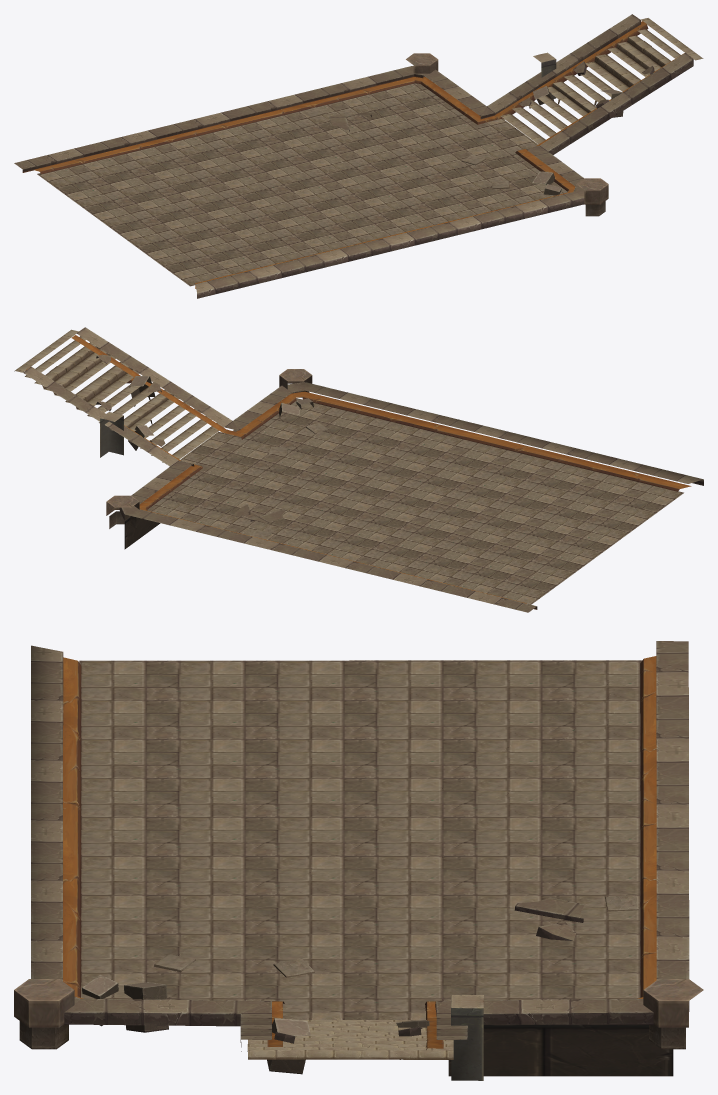
Rendered from terrain_section03_guanka1105.FBX.
3 views of the same model, one above another, from view 1: azimuth 30°, elevation 25°; view 2: azimuth 150°, elevation 25°; view 3: azimuth 270°, elevation 25° (orthographic). The views are drawn at different scales.
Visible parts, largest first — view 1: terrain_section03_guanka1105; view 2: terrain_section03_guanka1105; view 3: terrain_section03_guanka1105.
Part boxes in pixels (x1=…): terrain_section03_guanka1105: x1=14, y1=14, x2=703, y2=298; terrain_section03_guanka1105: x1=14, y1=327, x2=703, y2=612; terrain_section03_guanka1105: x1=14, y1=641, x2=703, y2=1080.
Size of the model in its own units: 52.9 by 8.49 by 29.98.
